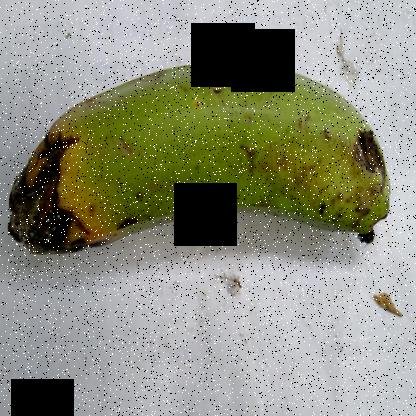unripe: (106, 40, 391, 270)
